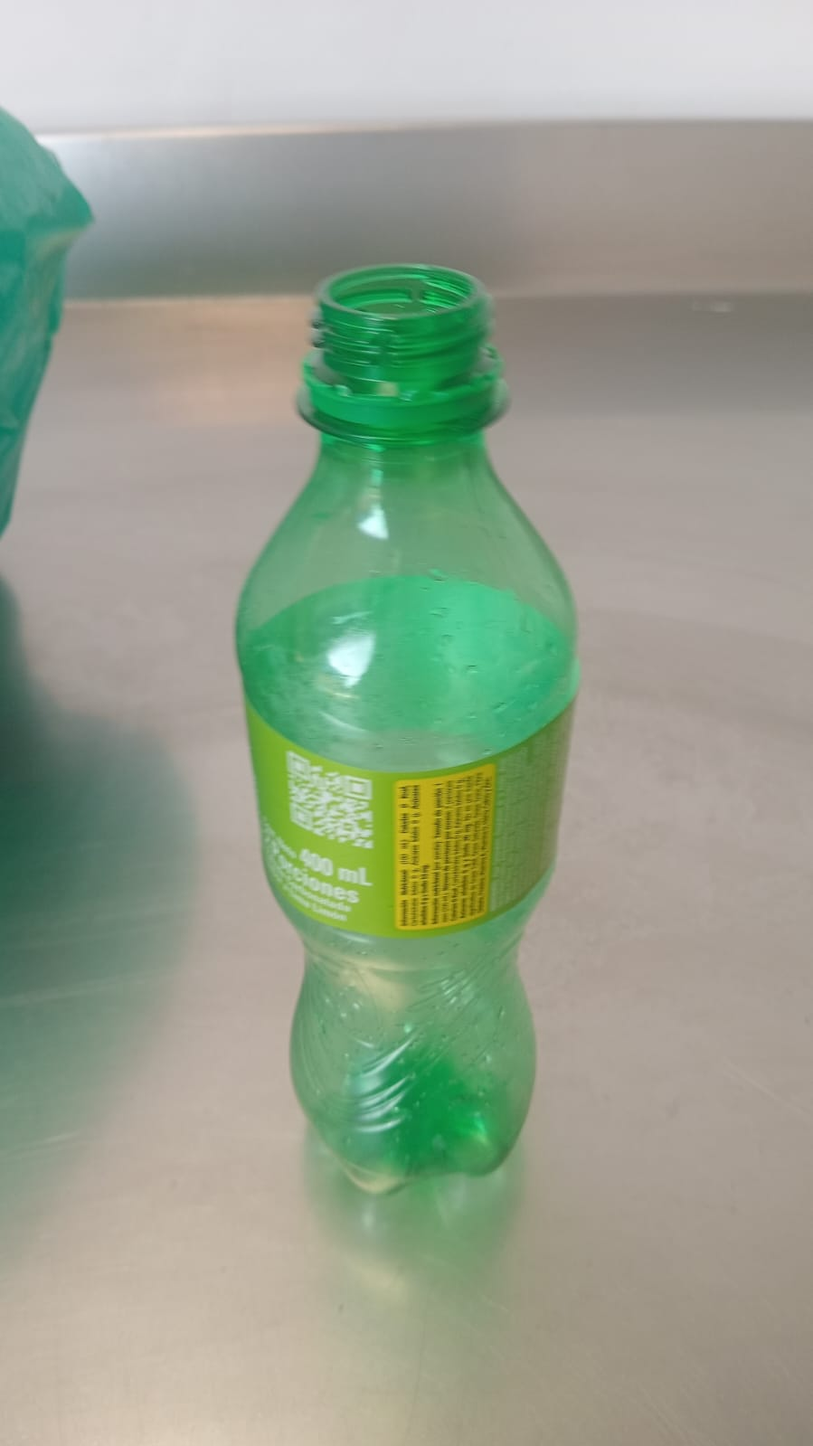Plastico: (236, 266, 581, 1196)
